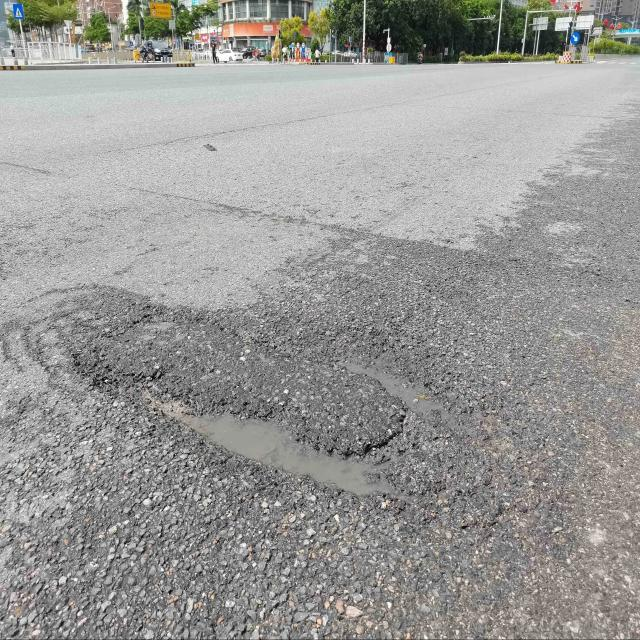Pothole: (79, 328, 456, 520)
